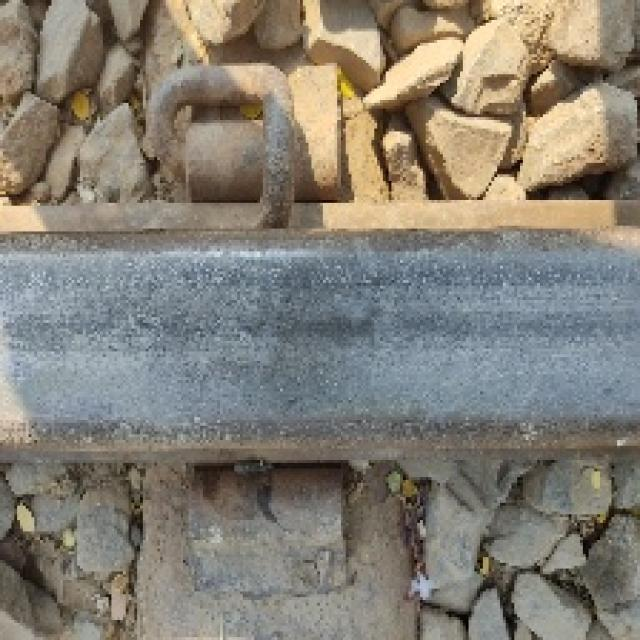Good Fasteners: (146, 66, 337, 264)
Missing Fastener: (143, 466, 380, 614)
